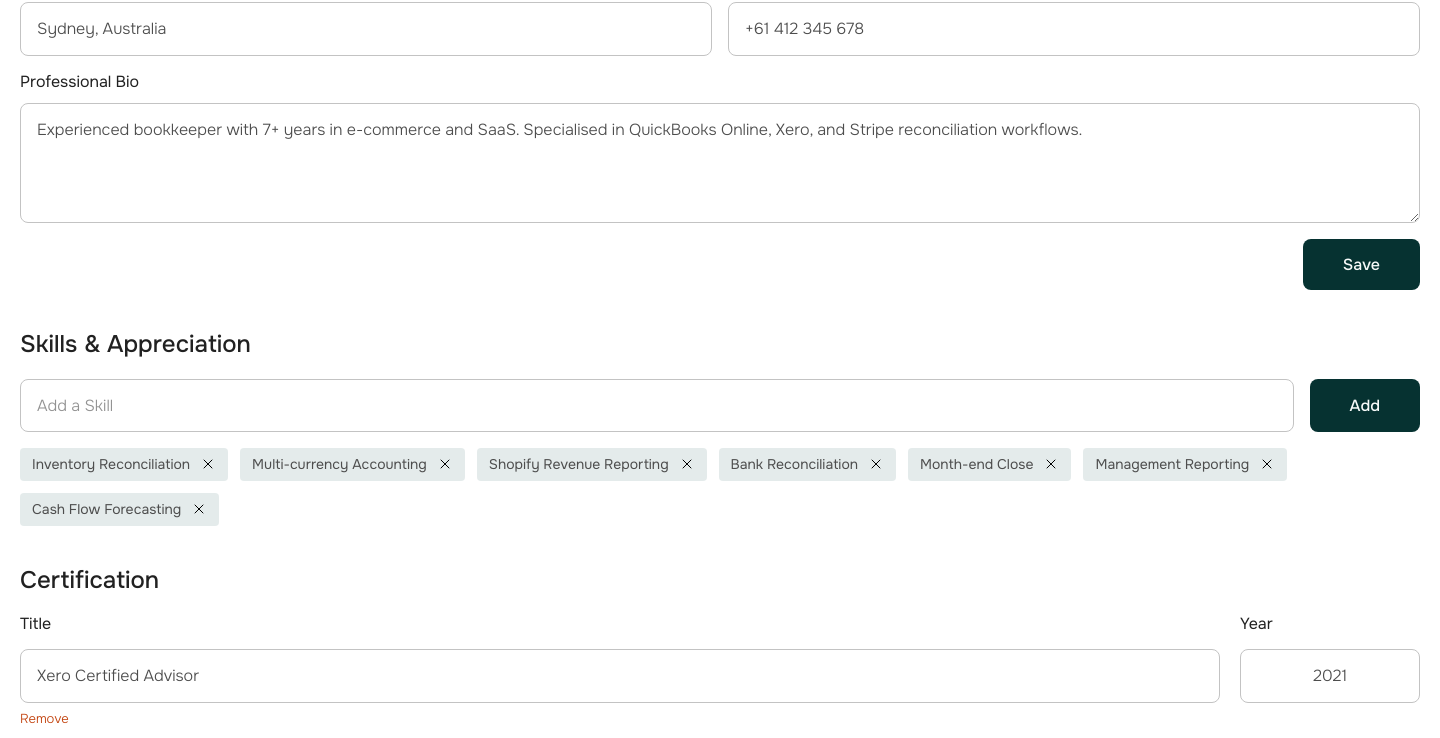
it: adds a skill chip with the Add button and Enter, and removes it with ×
This screenshot has width=1440, height=738.
Later steps or results of the test are not shown.
(page scrolled)
Type "Payroll" into the field labelled "Add a Skill" at (657, 405), box [20,379,1294,432]
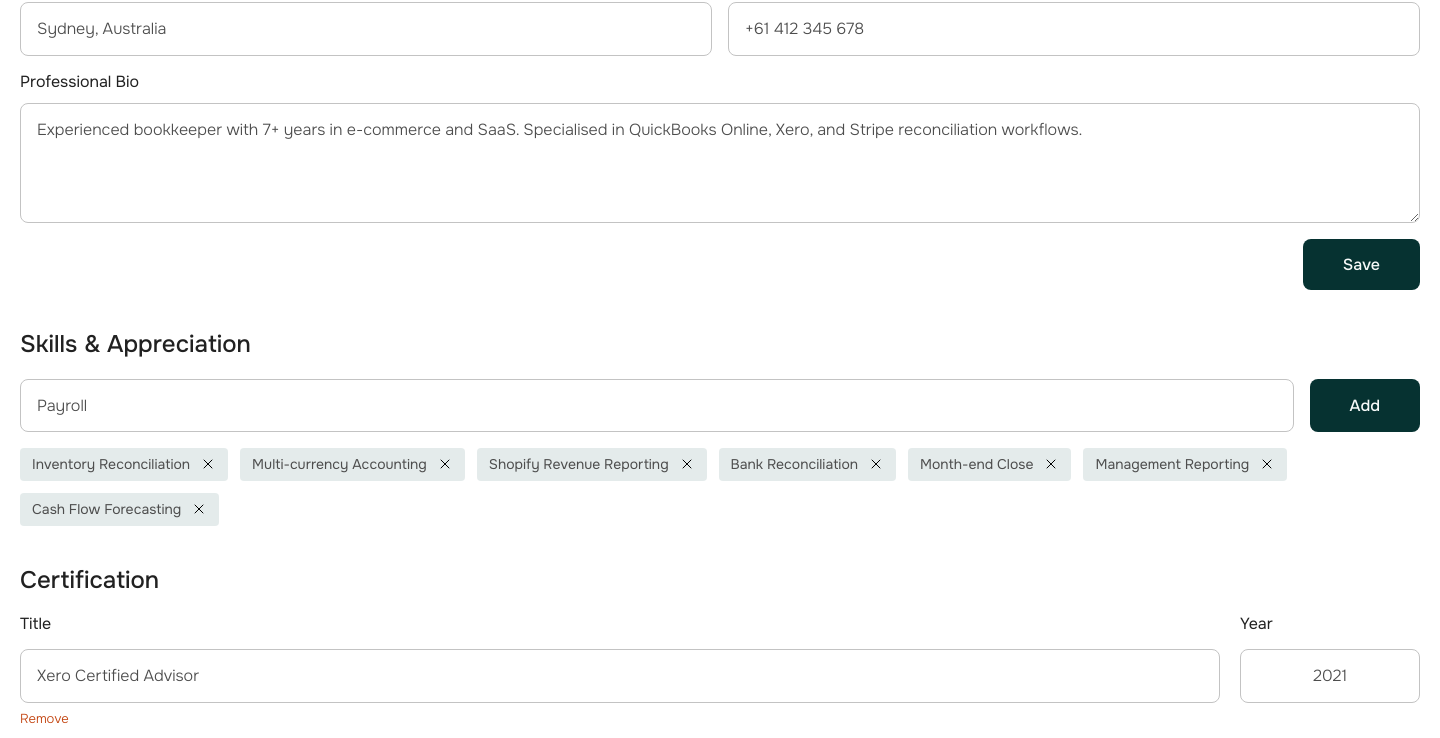
Click the button with aria-label "Add skill" at (1365, 405), box [1310,379,1420,432]
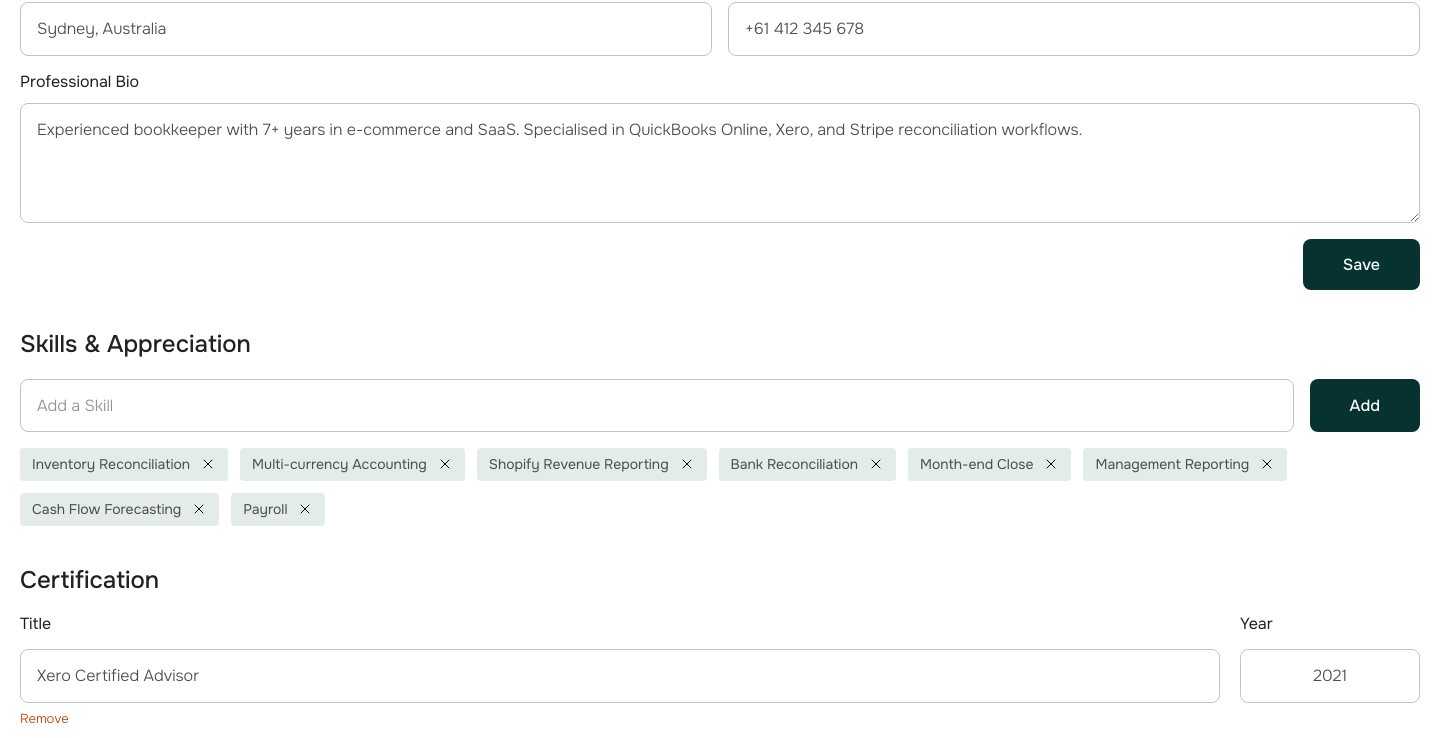
expect the list item "Payroll" is shown: met, box [231,493,326,526]
expect the field labelled "Add a Skill" is empty: met
Type "  Xero Migration " into the field labelled "Add a Skill" at (657, 405), box [20,379,1294,432]
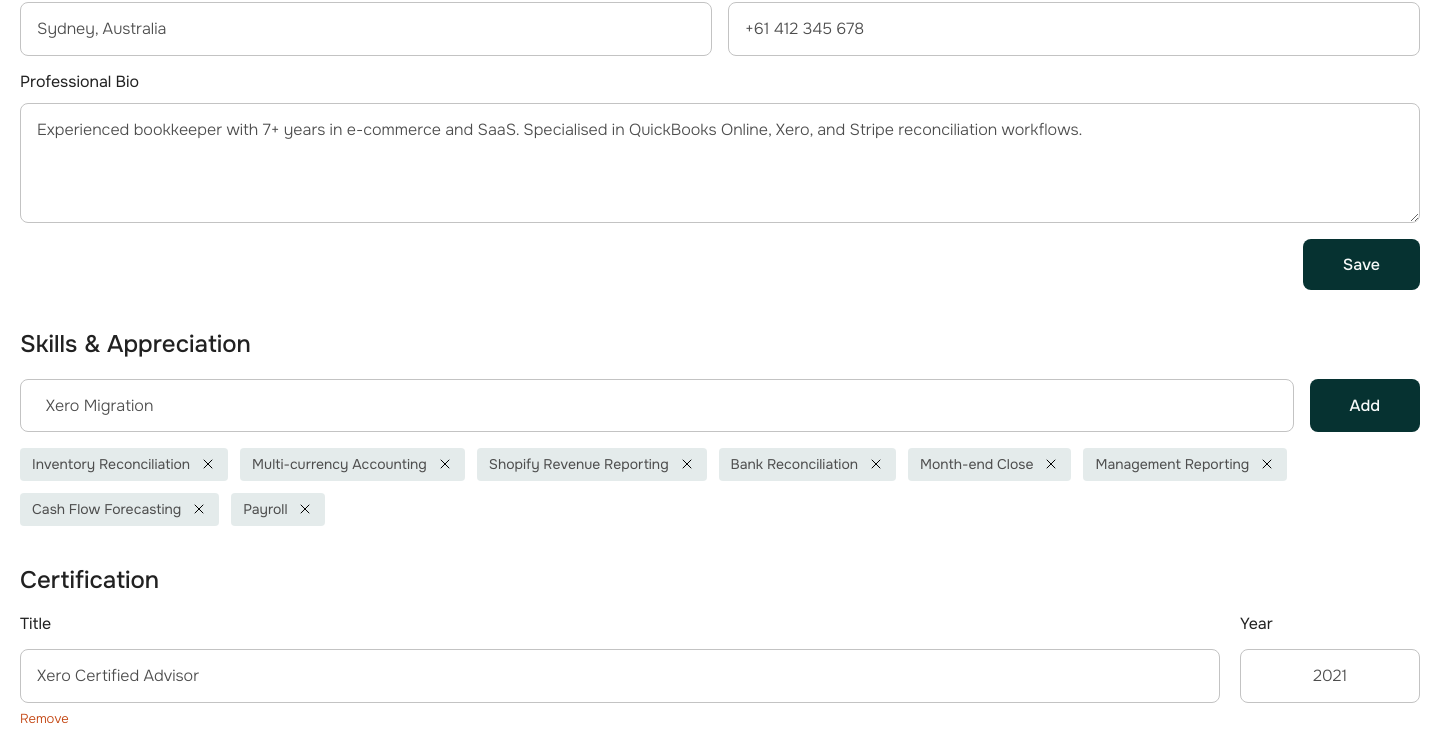
Press Enter in the field named "Add a Skill" below "Skills & Appreciation", box [20,379,1294,432]
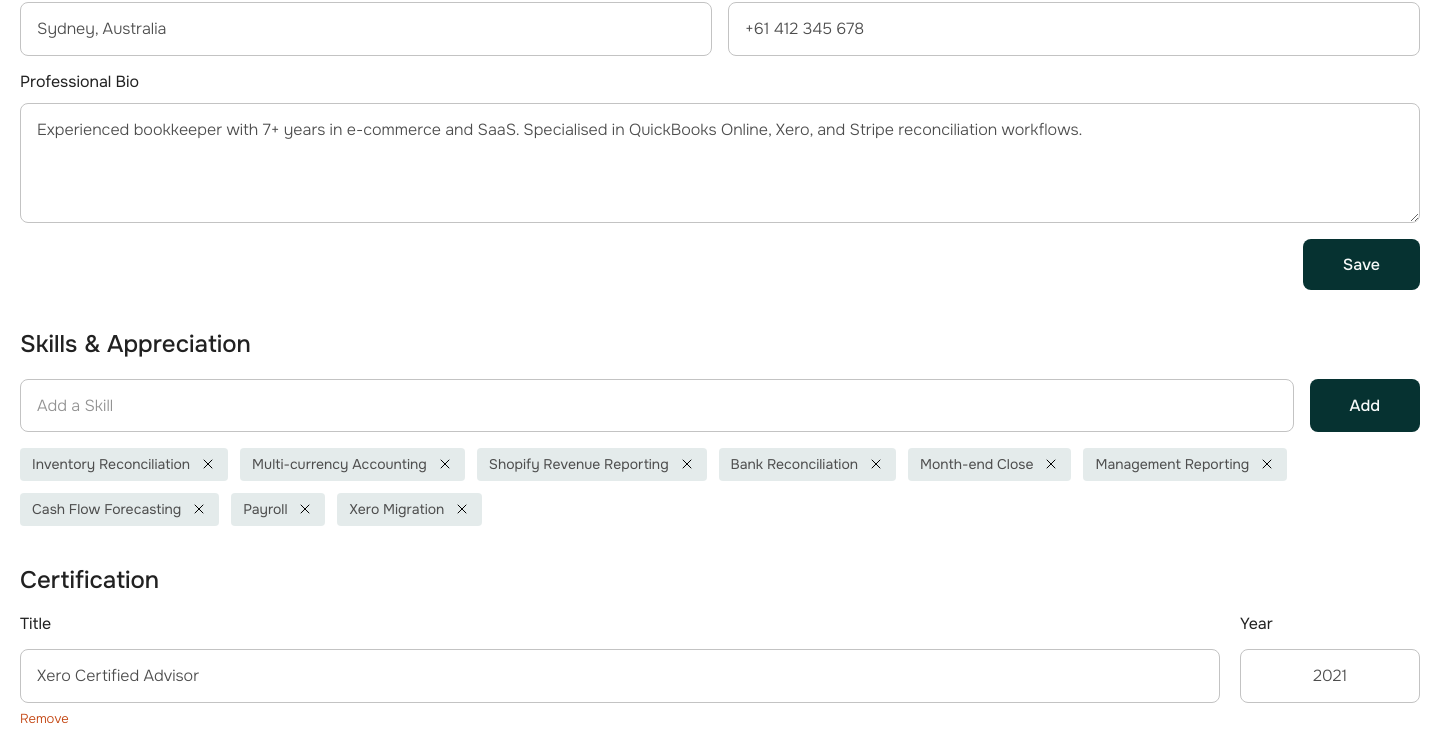
expect the list item "Xero Migration" is shown: met, box [338,493,482,526]
Note: duplicates are rejected with an inline error
Type "payroll" into the field labelled "Add a Skill" at (657, 405), box [20,379,1294,432]
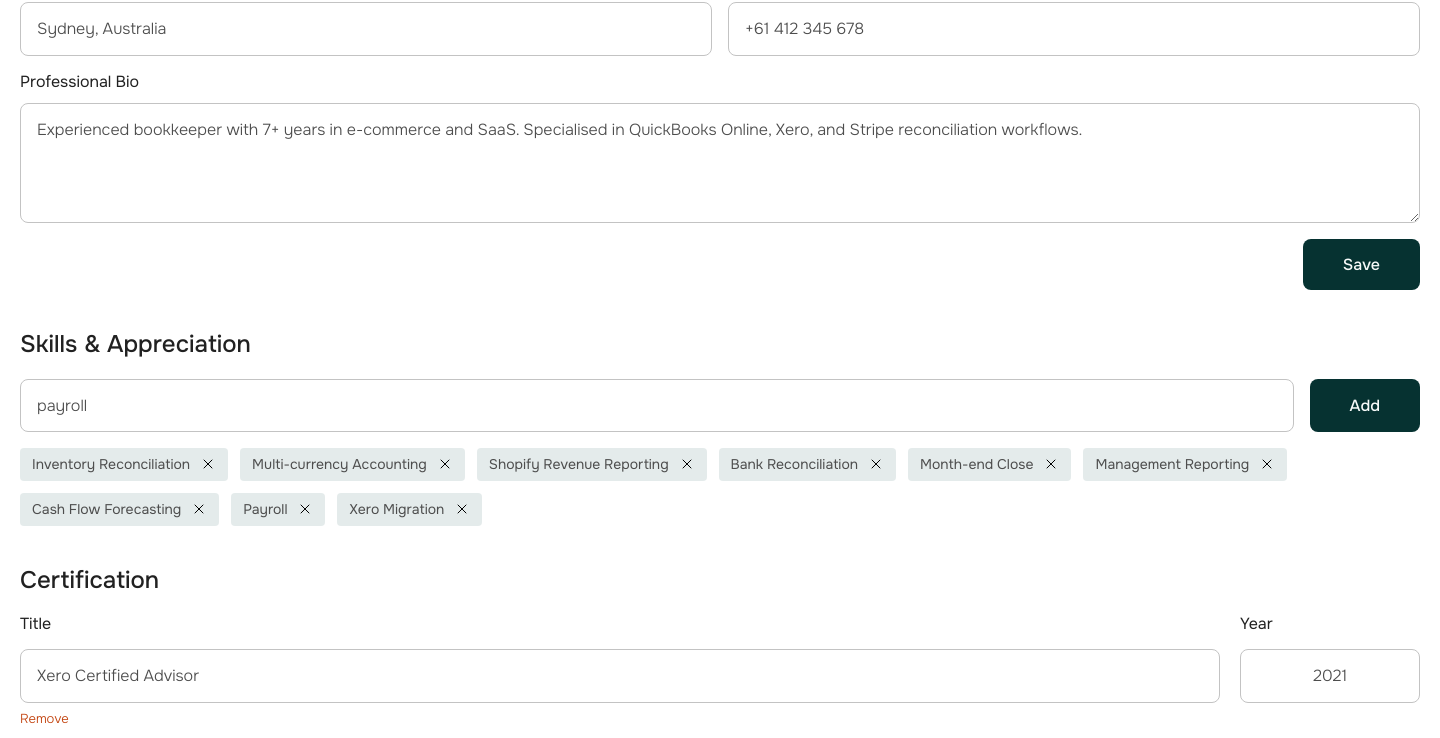
Click the button with aria-label "Add skill" at (1365, 405), box [1310,379,1420,432]
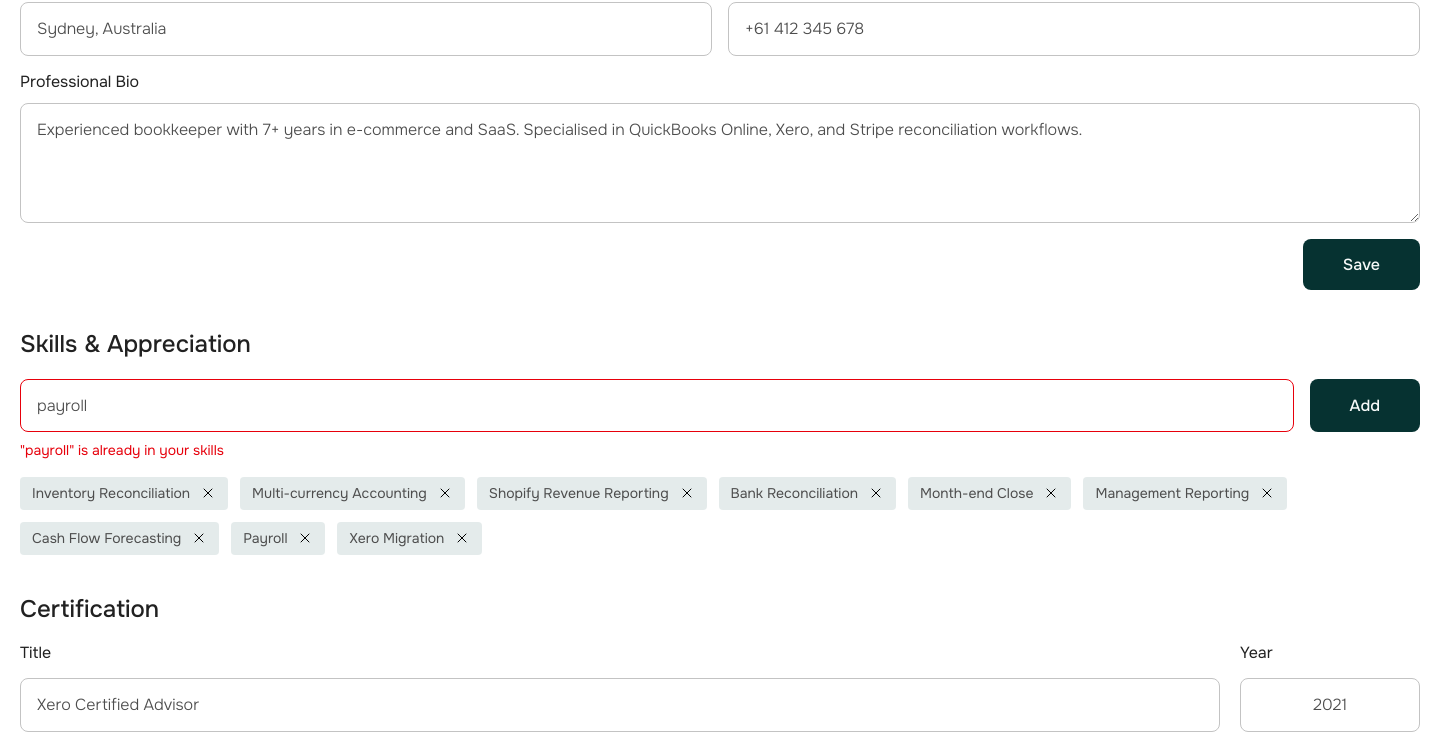
expect the message shows "already in your skills": met, box [20,441,224,459]
